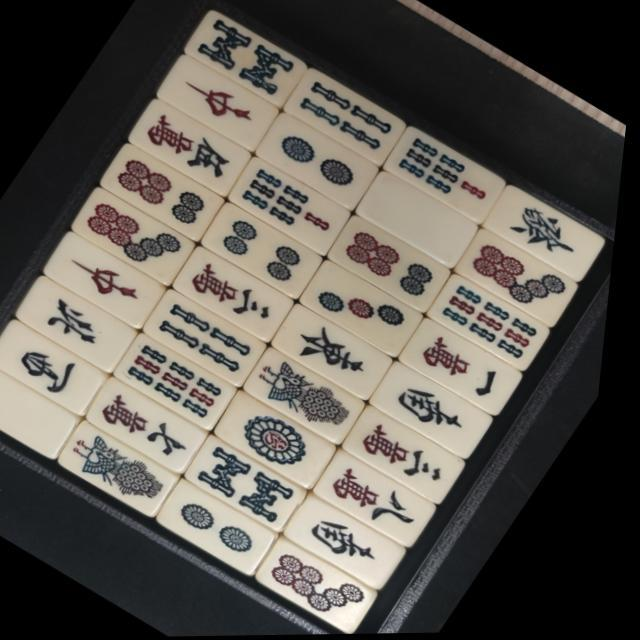hdg: (491, 190, 610, 280)
hdr: (156, 57, 280, 149), (50, 235, 172, 326)
hdw: (360, 174, 480, 266), (0, 368, 82, 454)
hwe: (281, 309, 396, 397)
hwn: (23, 280, 140, 368)
hws: (381, 368, 499, 458), (298, 499, 416, 588)
hww: (0, 324, 111, 412)
sb1: (63, 422, 190, 517), (248, 350, 374, 444)
sb4: (150, 292, 272, 383), (288, 72, 409, 163)
sb7: (384, 128, 511, 224), (234, 161, 354, 252)
sb8: (184, 11, 308, 104), (195, 440, 312, 529)
sb9: (436, 279, 558, 370), (122, 337, 242, 427)
sc1: (411, 324, 531, 414)
sc3: (352, 409, 476, 502), (178, 252, 294, 340)
sc5: (130, 100, 256, 196)
sc7: (96, 381, 216, 472)
sc8: (322, 453, 446, 546)
sd1: (224, 397, 343, 488)
sd2: (260, 116, 380, 207), (168, 484, 282, 572)
sd3: (304, 264, 425, 356)
sd4: (206, 207, 326, 297)
sd6: (333, 219, 454, 311), (106, 148, 226, 238)
sd7: (76, 190, 200, 284), (462, 233, 586, 326), (268, 542, 390, 634)
